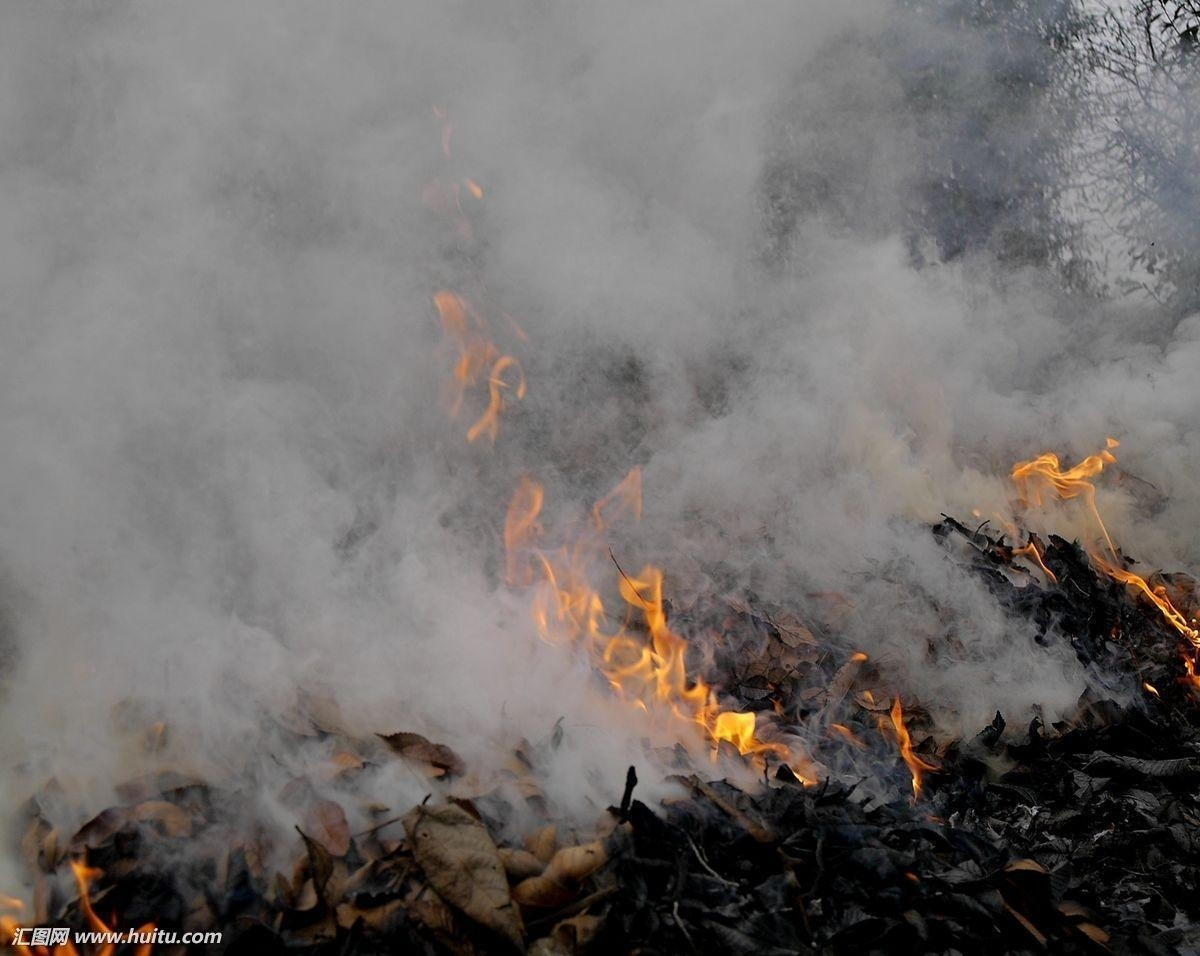fire: (490, 479, 930, 797), (994, 435, 1200, 702), (430, 283, 532, 443), (420, 107, 493, 234)
